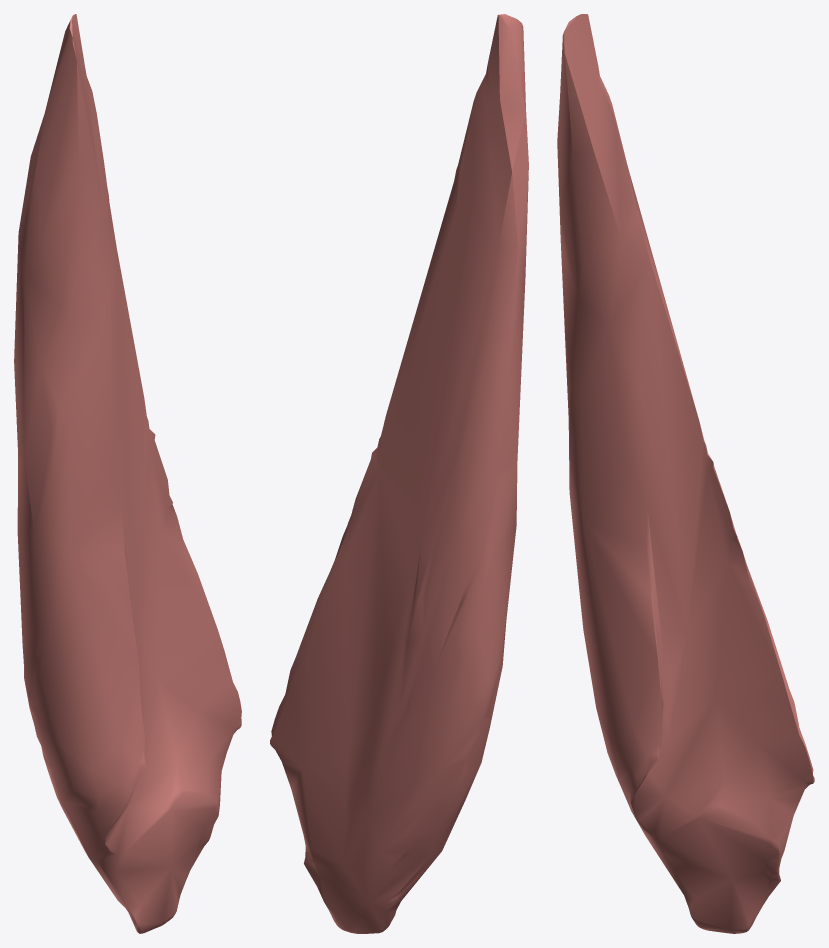
File: fma37696_fj1480m.glb
3 views of the same model, side by side, from view 1: azimuth 30°, elevation 25°; view 2: azimuth 150°, elevation 25°; view 3: azimuth 330°, elevation 25° (orthographic). The views are drawn at different scales.
Parts seen in each view (by area): view 1: FMA37696_FJ1480M; view 2: FMA37696_FJ1480M; view 3: FMA37696_FJ1480M.
Boxes of the visible parts, left/top/right/bottom form: FMA37696_FJ1480M: left=14, top=14, right=241, bottom=933; FMA37696_FJ1480M: left=270, top=14, right=528, bottom=933; FMA37696_FJ1480M: left=557, top=14, right=814, bottom=933.
Bounding box in the file's own units: 0.0596 × 0.2267 × 0.0256.
